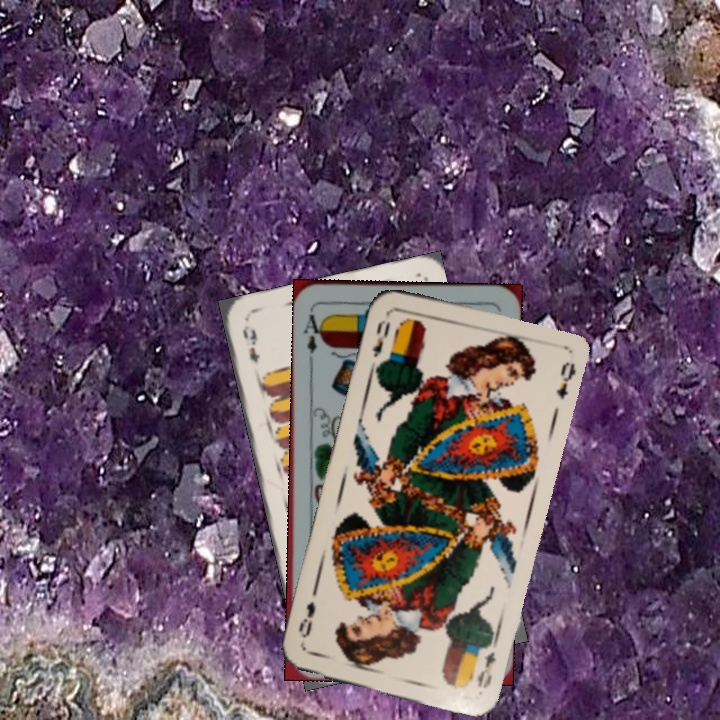E9: (238, 321, 262, 365)
EA: (299, 305, 327, 364)
EO: (472, 647, 498, 691), (368, 316, 393, 360)
